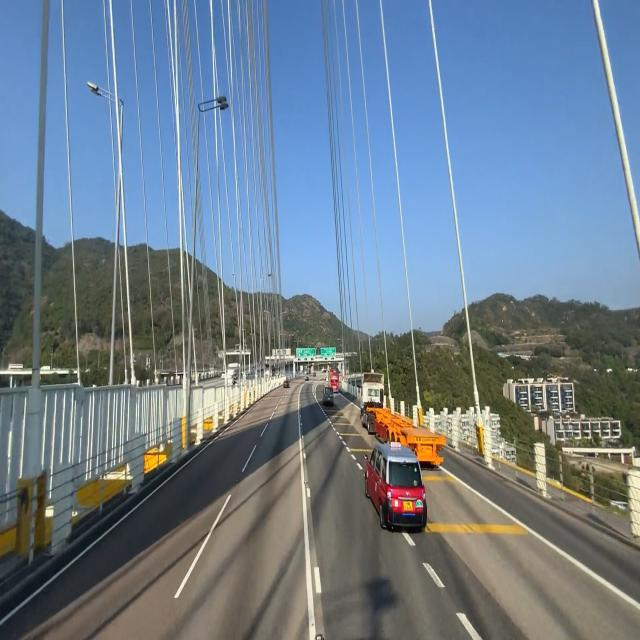Vehicle: (357, 370, 445, 468), (366, 436, 428, 541)
